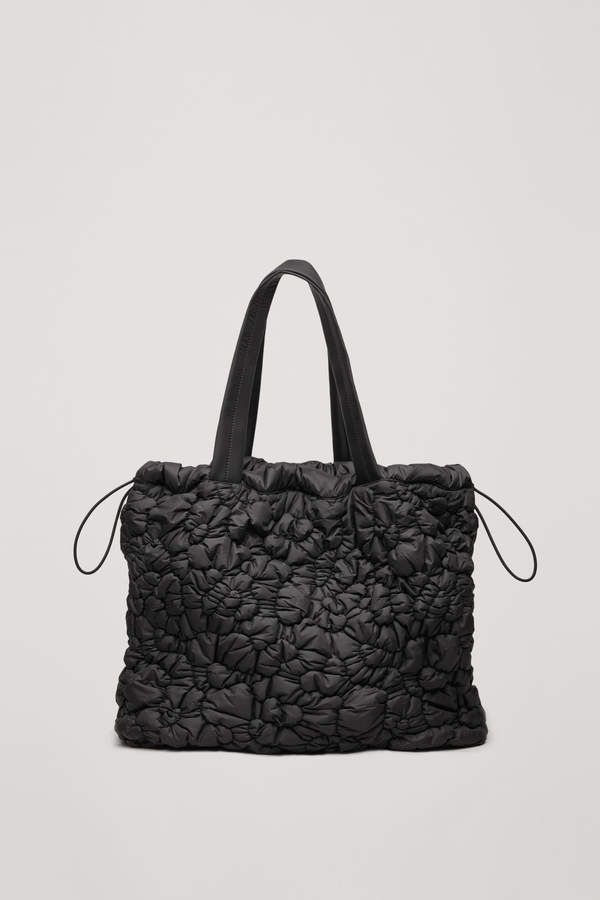nylon: (114, 260, 487, 753)
